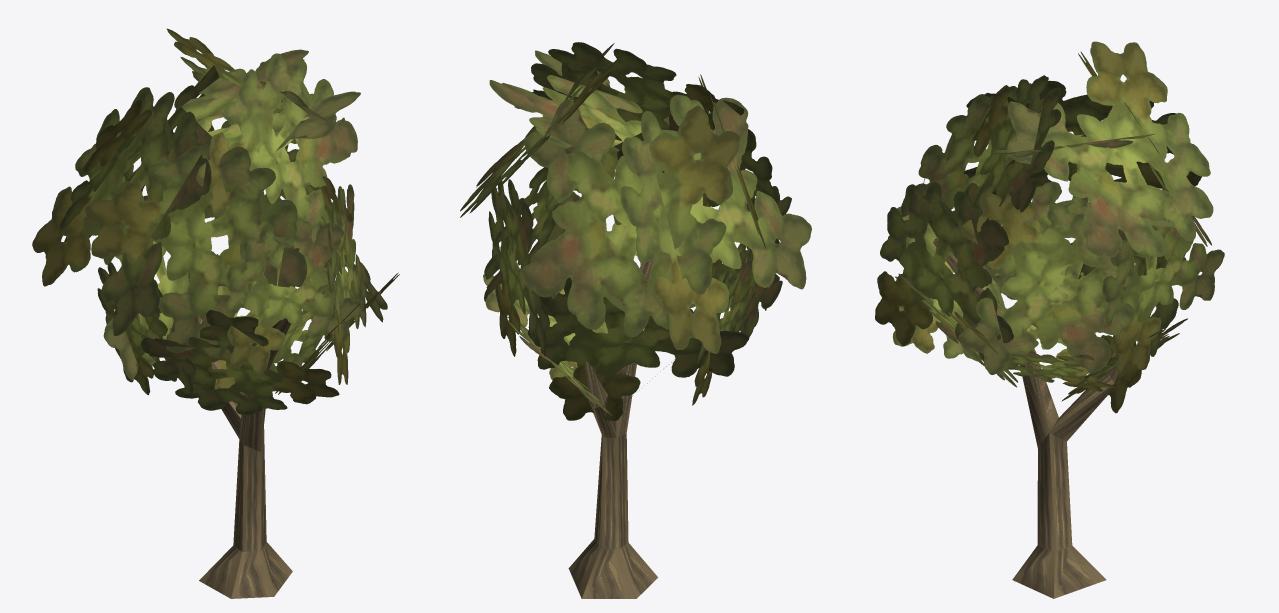
The model's file is treesm.fbx.
The picture shows the model from 3 angles, left to right: view 1: azimuth 30°, elevation 25°; view 2: azimuth 150°, elevation 25°; view 3: azimuth 270°, elevation 25°; orthographic projection. The views are drawn at different scales.
Visible parts, largest first — view 1: l1_treesm_Shape; view 2: l1_treesm_Shape; view 3: l1_treesm_Shape.
Boxes of the visible parts, <box> form: l1_treesm_Shape: <box>32,28,399,598</box>; l1_treesm_Shape: <box>460,42,811,598</box>; l1_treesm_Shape: <box>875,41,1224,598</box>.
Size of the model in its own units: 582 by 1012 by 669.
